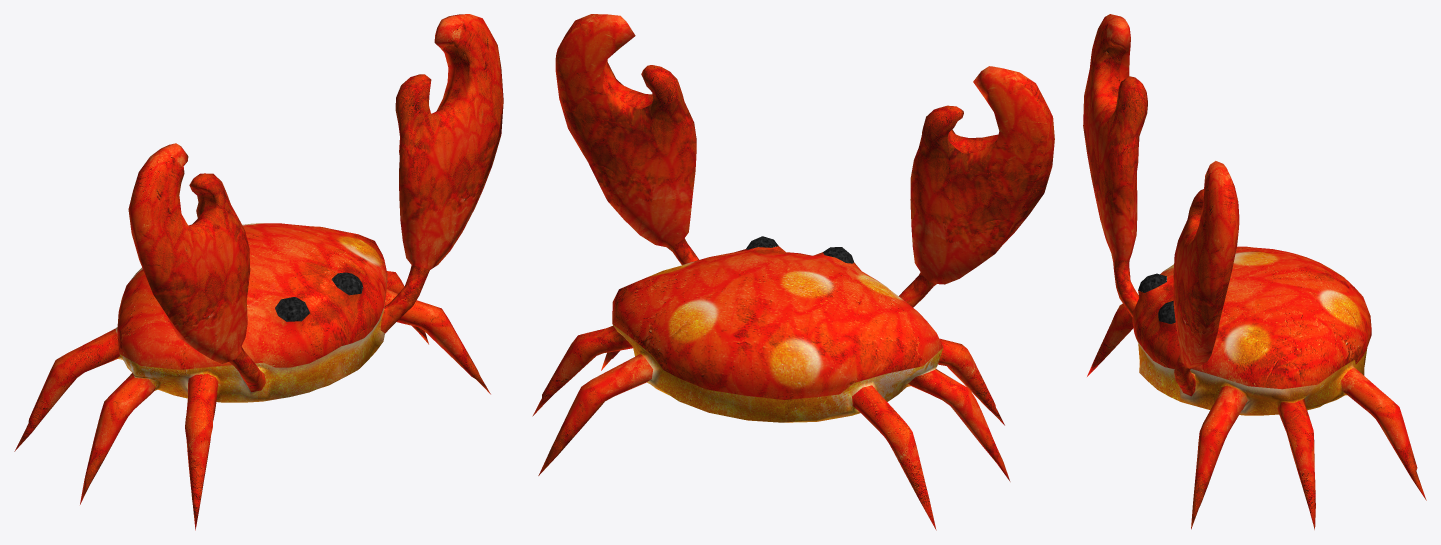
Rendered from kevin_crab.fbx.
3 views of the same model, side by side, from view 1: azimuth 30°, elevation 25°; view 2: azimuth 150°, elevation 25°; view 3: azimuth 270°, elevation 25° (orthographic). The views are drawn at different scales.
Parts seen in each view (by area): view 1: Mesh_Kevin; view 2: Mesh_Kevin; view 3: Mesh_Kevin.
Part boxes in pixels (x1,y1,x2,y2): Mesh_Kevin: (14, 14, 503, 530); Mesh_Kevin: (532, 14, 1054, 530); Mesh_Kevin: (1083, 14, 1426, 529).
Bounding box in the file's own units: 1637 × 1371 × 1171.
